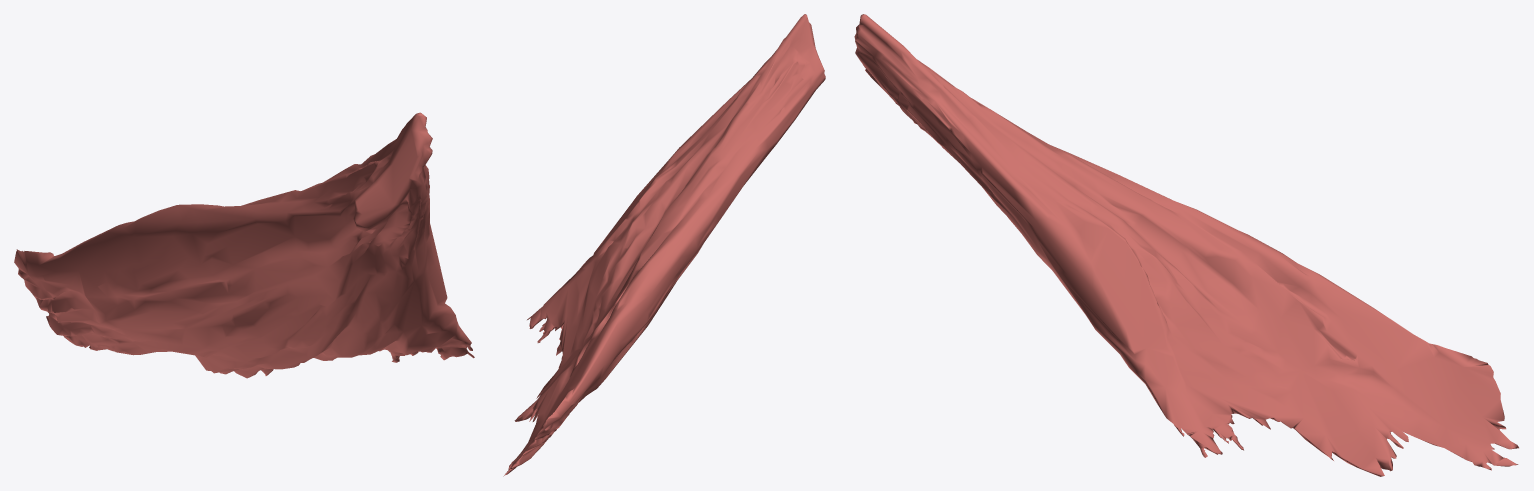
The picture shows the model from 3 angles, left to right: view 1: azimuth 30°, elevation 25°; view 2: azimuth 150°, elevation 25°; view 3: azimuth 270°, elevation 25°; orthographic projection. The views are drawn at different scales.
Parts seen in each view (by area): view 1: 右侧胸小肌; view 2: 右侧胸小肌; view 3: 右侧胸小肌.
Boxes of the visible parts, x1,y1,x2,y2 form: 右侧胸小肌: [14, 112, 474, 378]; 右侧胸小肌: [503, 14, 825, 476]; 右侧胸小肌: [854, 14, 1518, 476].
Size of the model in its own units: 0.0867 by 0.1401 by 0.2048.
